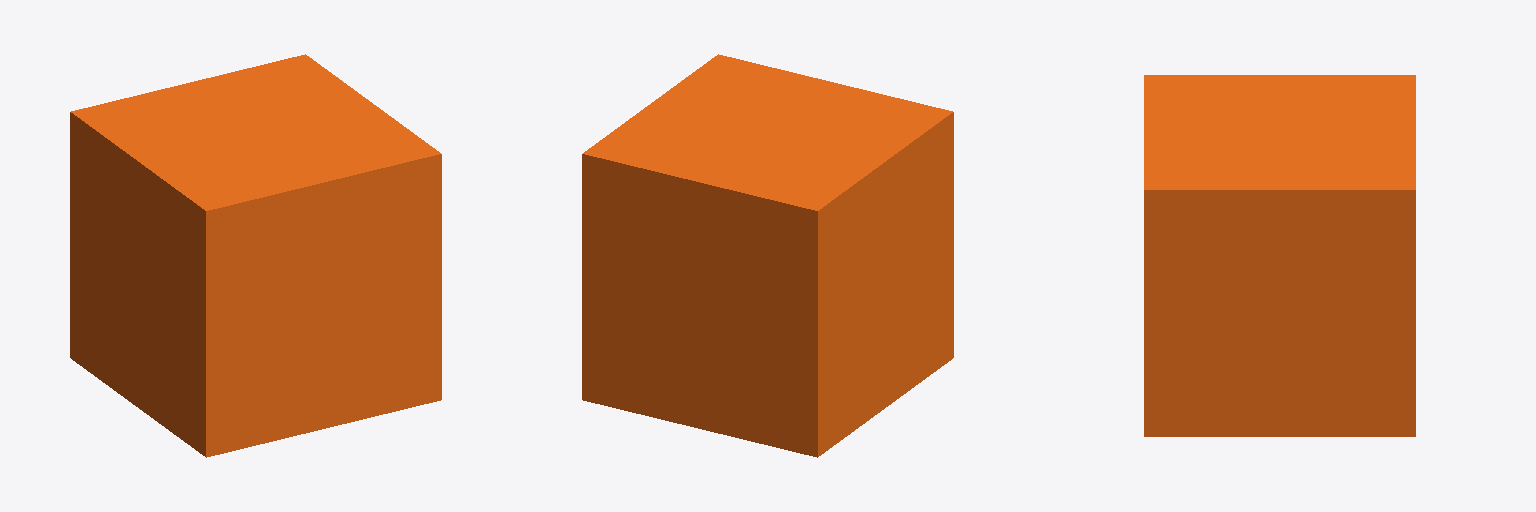
3 views of the same model, side by side, from view 1: azimuth 30°, elevation 25°; view 2: azimuth 150°, elevation 25°; view 3: azimuth 270°, elevation 25° (orthographic).
Parts seen in each view (by area): view 1: Cube; view 2: Cube; view 3: Cube.
Part boxes in pixels (bbox=[...]): Cube: bbox=[70, 54, 441, 457]; Cube: bbox=[582, 54, 953, 457]; Cube: bbox=[1144, 75, 1415, 436].
Size of the model in its own units: 2 by 2 by 2.
Materials: 1 (1 with a texture image).